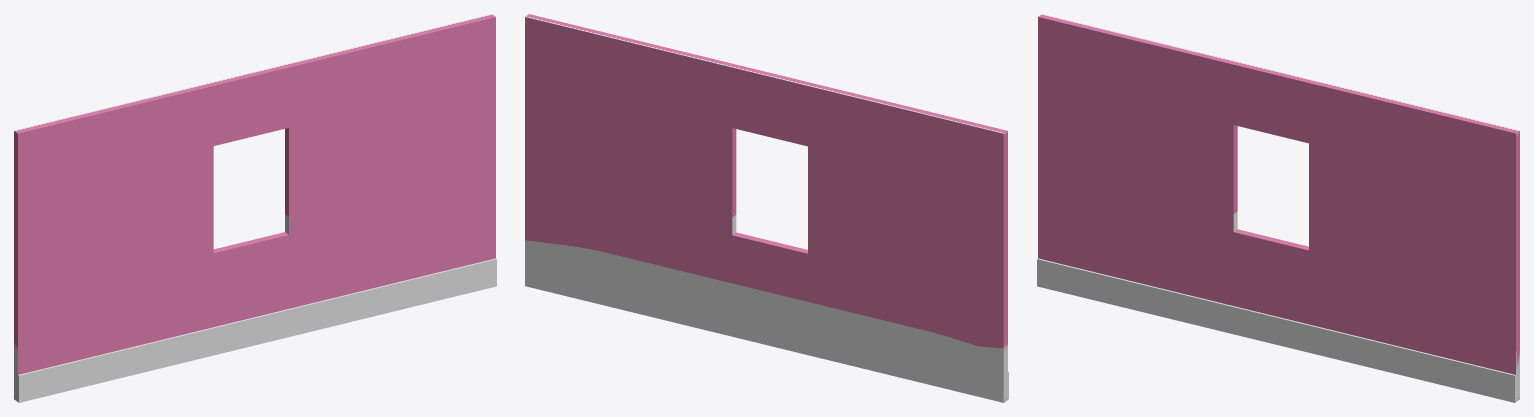
File: wall.fbx
The picture shows the model from 3 angles, left to right: view 1: azimuth 30°, elevation 25°; view 2: azimuth 150°, elevation 25°; view 3: azimuth 330°, elevation 25°; orthographic projection.
Visible parts, largest first — view 1: Wall 6; view 2: Wall 6; view 3: Wall 6.
Boxes of the visible parts, <box> form: Wall 6: <box>14,14,496,402</box>; Wall 6: <box>525,14,1008,402</box>; Wall 6: <box>1037,14,1519,402</box>.
Bounding box in the file's own units: 6.15 × 3.3 × 0.1122.
